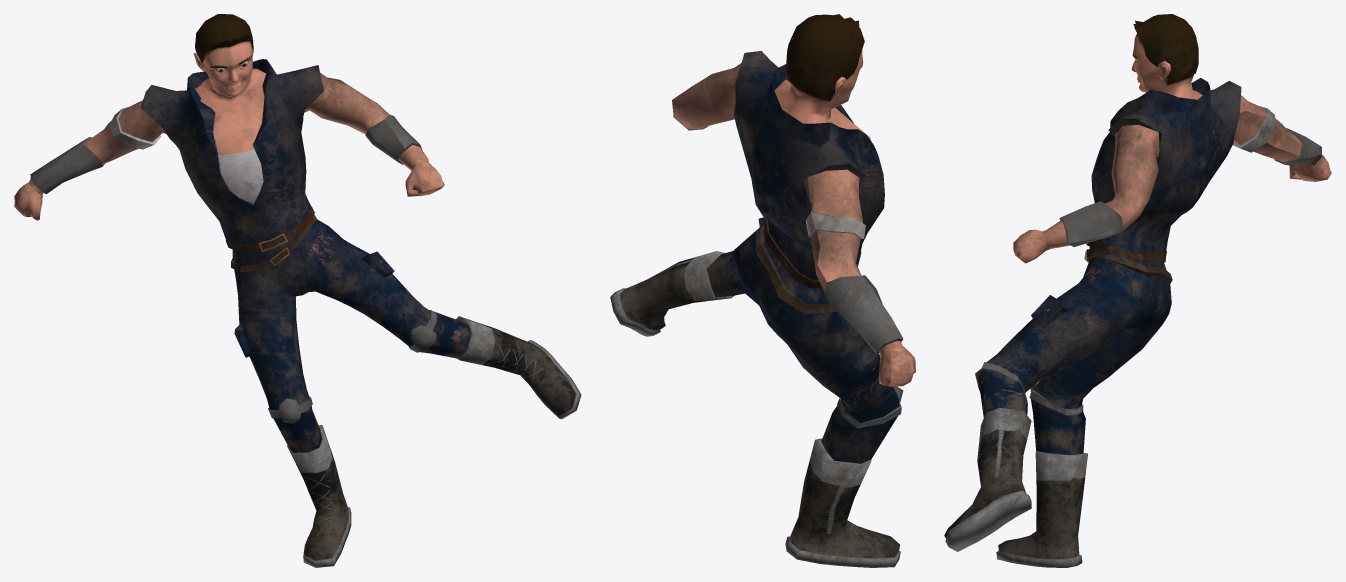
File: Anim_ataque_f3_jugador.0028.obj
3 views of the same model, side by side, from view 1: azimuth 30°, elevation 25°; view 2: azimuth 150°, elevation 25°; view 3: azimuth 270°, elevation 25° (orthographic). The views are drawn at different scales.
Visible parts, largest first — view 1: polySurface1; view 2: polySurface1; view 3: polySurface1.
Part boxes in pixels (bbox=[...]): polySurface1: bbox=[14, 14, 581, 567]; polySurface1: bbox=[610, 14, 915, 567]; polySurface1: bbox=[944, 14, 1331, 567].
Bounding box in the file's own units: 7.67 × 9.28 × 6.16.
